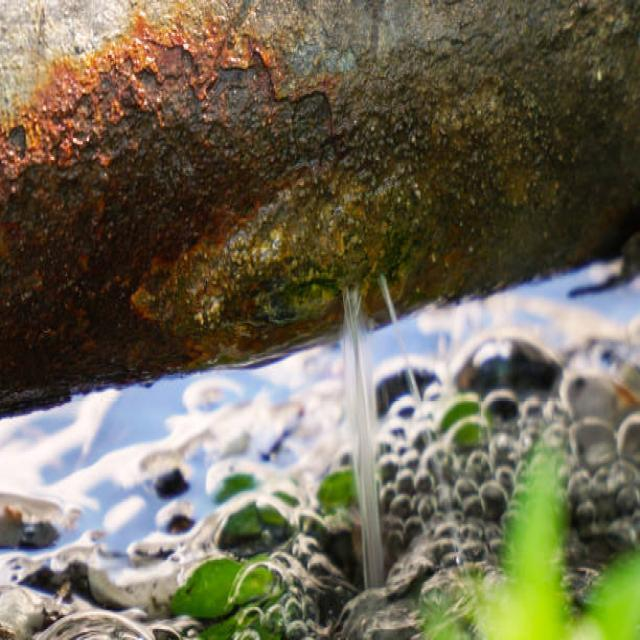pipe burst: (376, 272, 467, 566), (334, 276, 381, 589)
